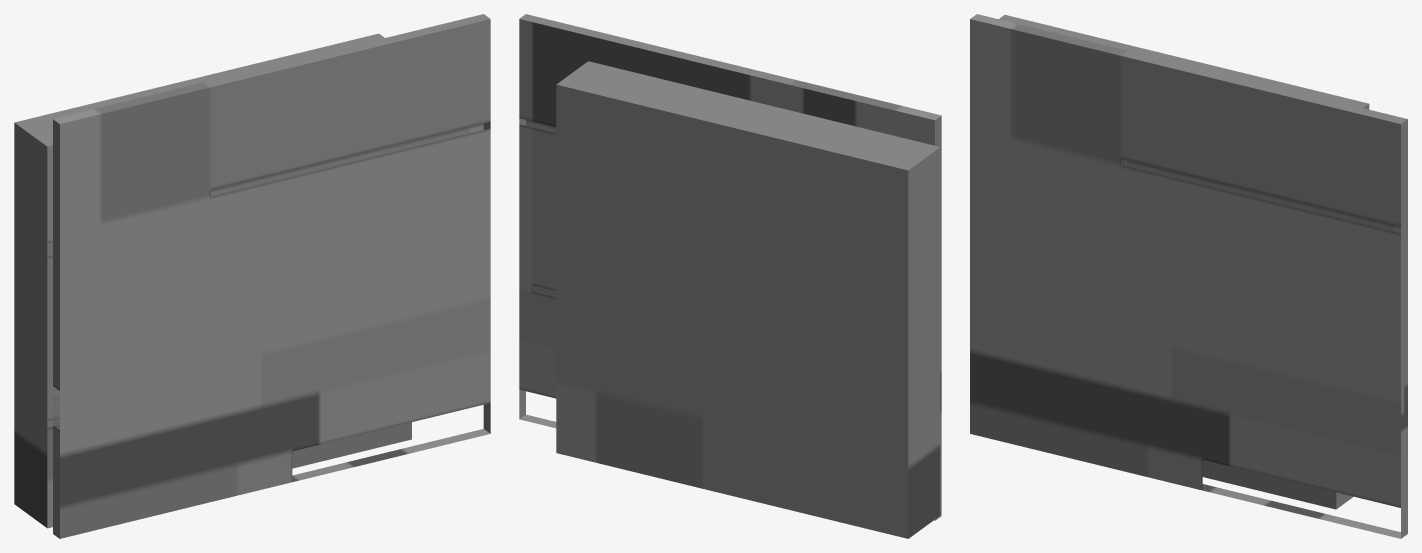
3 renders of one model, left to right at view 1: azimuth 30°, elevation 25°; view 2: azimuth 150°, elevation 25°; view 3: azimuth 330°, elevation 25°, orthographic. The views are drawn at different scales.
Bounding box in the file's own units: 0.9843 × 0.8942 × 0.1566.
